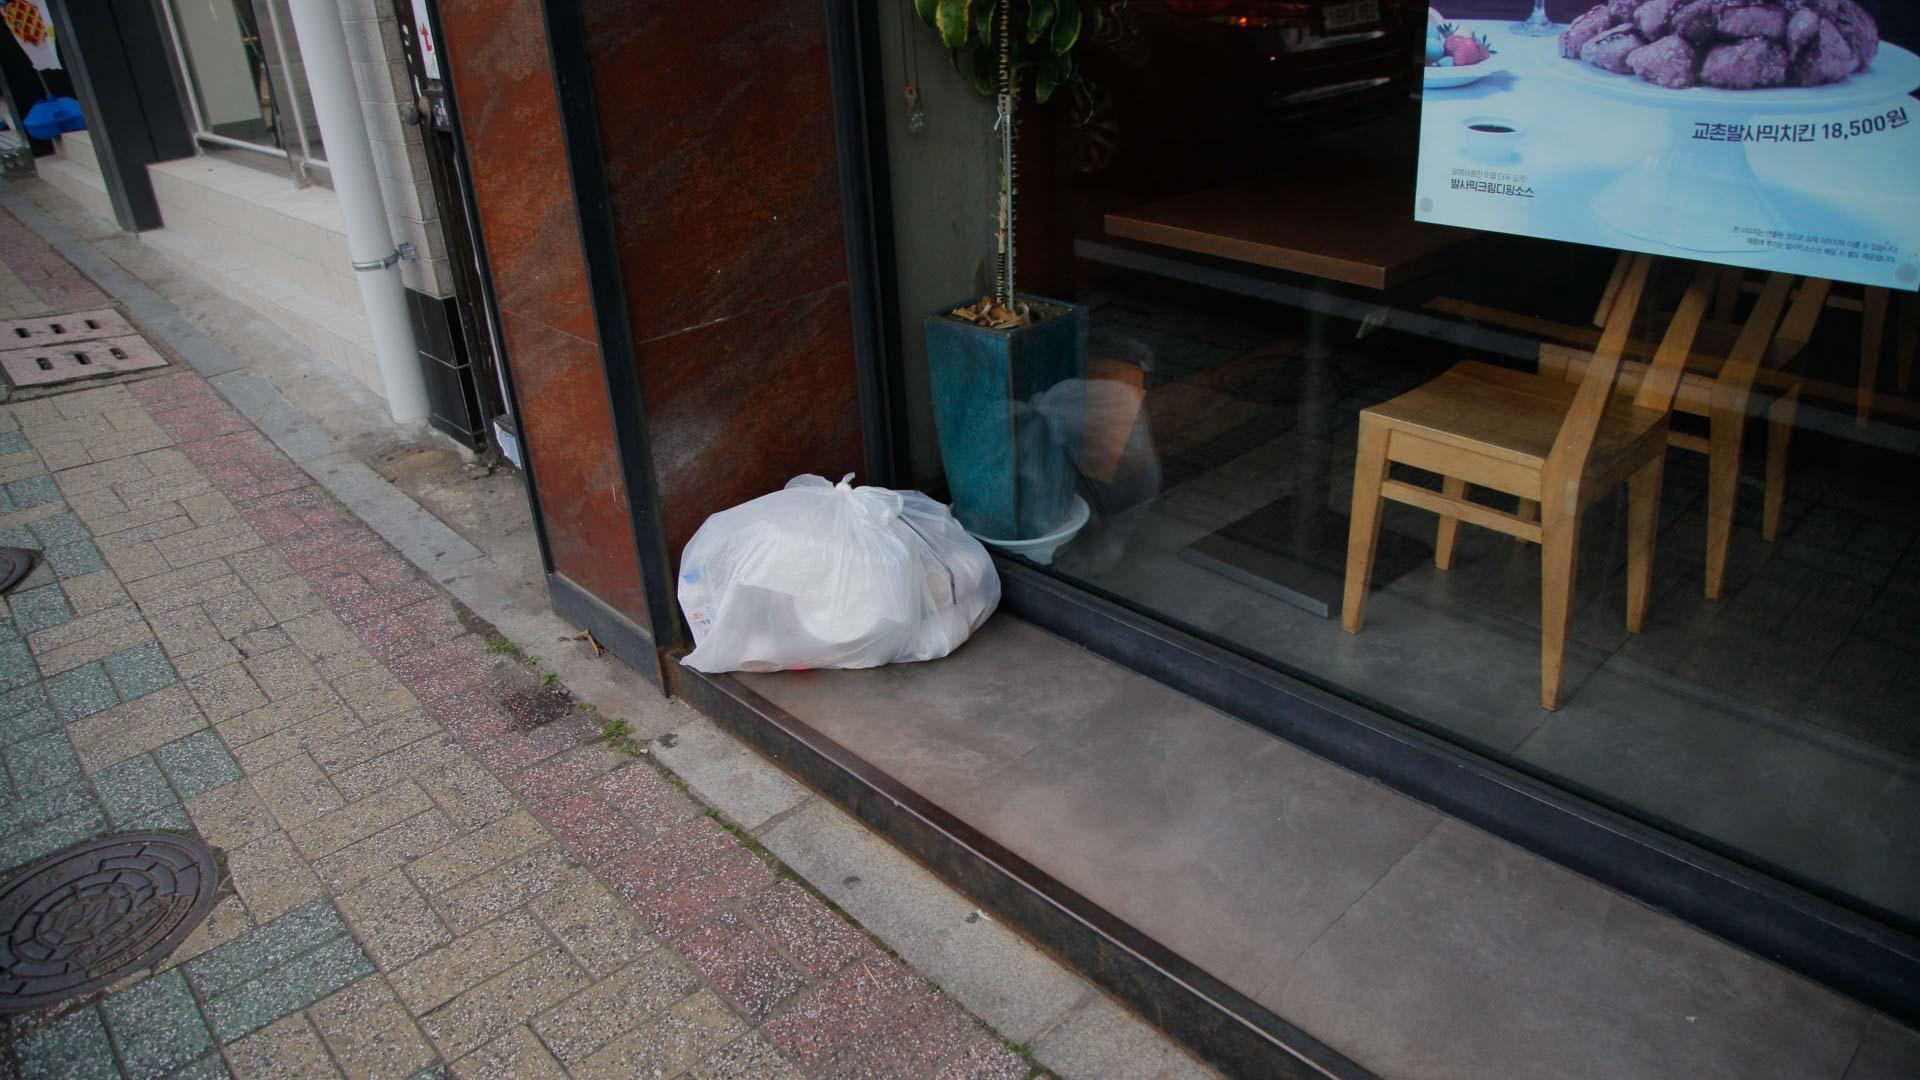white_bag: (659, 456, 1015, 676)
